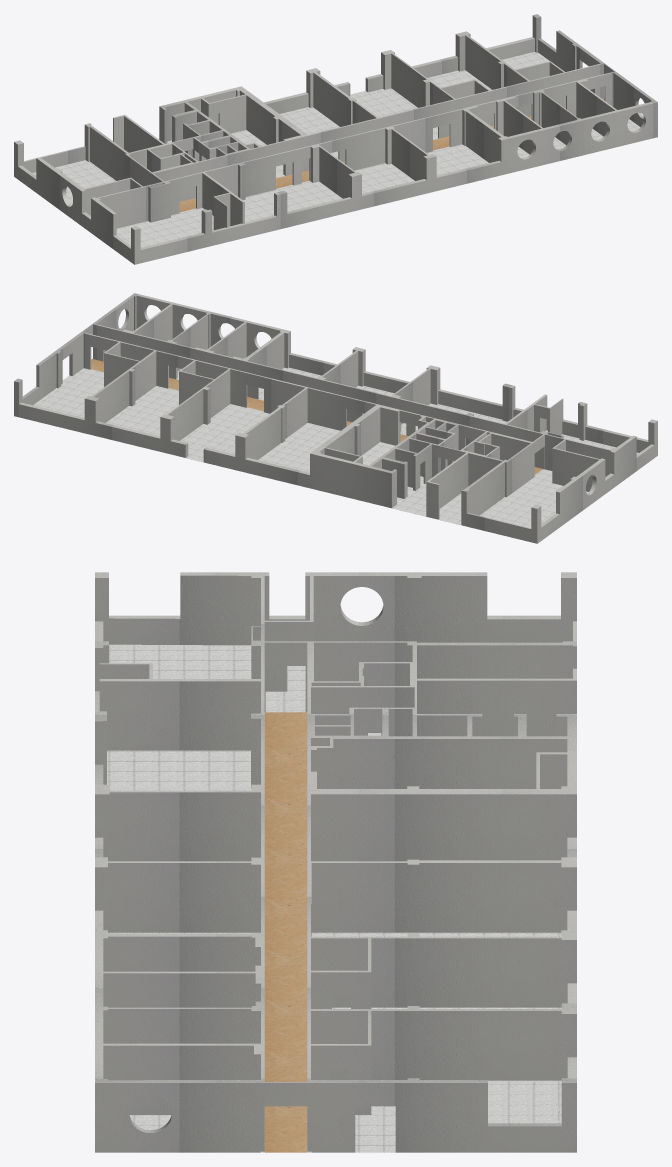
File: no_roof_UAMT.dae
The picture shows the model from 3 angles, top to bottom: view 1: azimuth 30°, elevation 25°; view 2: azimuth 150°, elevation 25°; view 3: azimuth 270°, elevation 25°; orthographic projection. The views are drawn at different scales.
Visible parts, largest first — view 1: walls_UAMT, floor_rooms_UAMT, floor_corridor_UAMT; view 2: walls_UAMT, floor_rooms_UAMT, floor_corridor_UAMT; view 3: walls_UAMT, floor_rooms_UAMT, floor_corridor_UAMT.
Boxes of the visible parts, x1,y1,x2,y2 form: walls_UAMT: [14, 14, 657, 264]; floor_rooms_UAMT: [32, 52, 640, 258]; floor_corridor_UAMT: [179, 98, 604, 212]; walls_UAMT: [14, 293, 657, 543]; floor_rooms_UAMT: [19, 358, 638, 543]; floor_corridor_UAMT: [91, 359, 542, 474]; walls_UAMT: [95, 572, 576, 1152]; floor_rooms_UAMT: [107, 644, 561, 1152]; floor_corridor_UAMT: [264, 712, 307, 1152].
Size of the model in its own units: 50.55 by 20.17 by 3.22.
